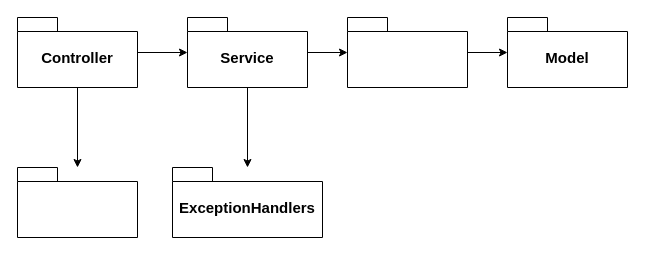
This 645x255 diagram has some shape labels left out. The centre of each missing label's shape, as x and y in pixels:
"DAO" goes at (x=407, y=52).
"Security" goes at (x=77, y=202).
